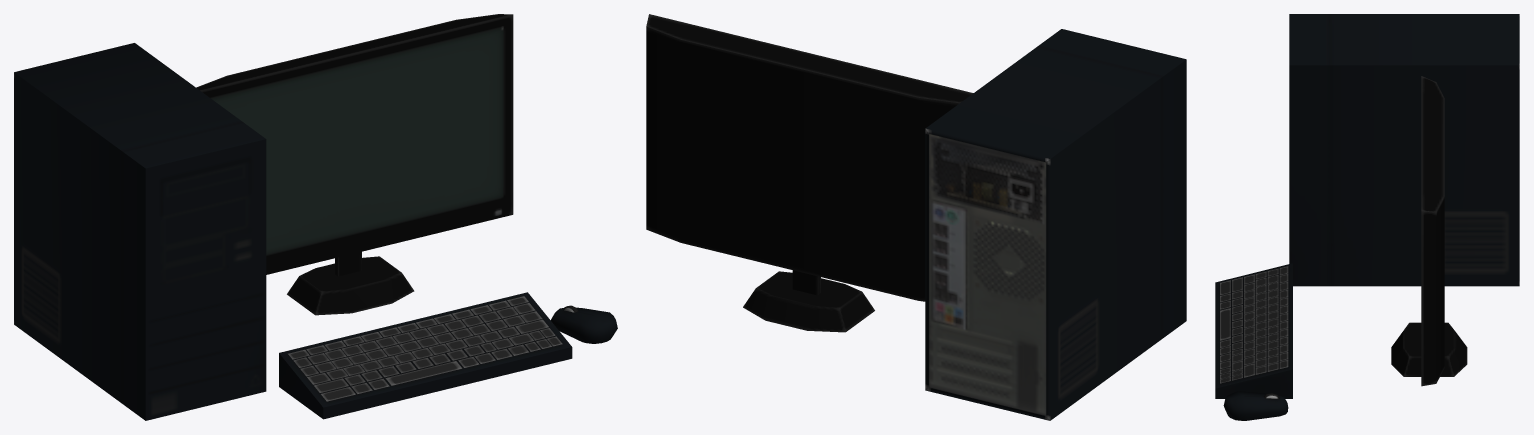
File: sb_obj_ModernCity037_desktop_pc.fbx
3 renders of one model, left to right at view 1: azimuth 30°, elevation 25°; view 2: azimuth 150°, elevation 25°; view 3: azimuth 270°, elevation 25°, orthographic. The views are drawn at different scales.
Visible parts, largest first — view 1: sb_obj_ModernCity037_desktop_pc, desktop_pc_monitor; view 2: sb_obj_ModernCity037_desktop_pc, desktop_pc_monitor; view 3: sb_obj_ModernCity037_desktop_pc, desktop_pc_monitor.
Boxes of the visible parts, x1,y1,x2,y2 form: sb_obj_ModernCity037_desktop_pc: [14, 43, 617, 420]; desktop_pc_monitor: [196, 14, 513, 315]; sb_obj_ModernCity037_desktop_pc: [925, 29, 1186, 420]; desktop_pc_monitor: [646, 14, 973, 332]; sb_obj_ModernCity037_desktop_pc: [1215, 14, 1519, 420]; desktop_pc_monitor: [1391, 76, 1467, 386].
Bounding box in the file's own units: 0.7874 × 0.4292 × 0.5358.
